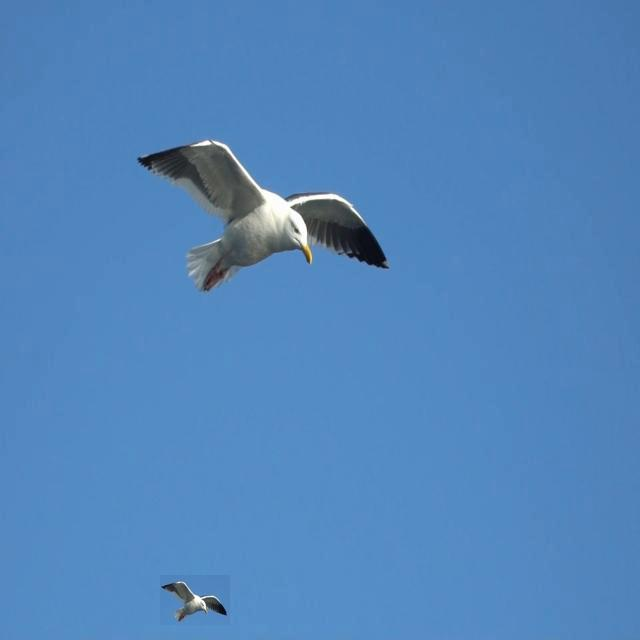bird: (134, 141, 396, 294), (162, 582, 228, 624)
